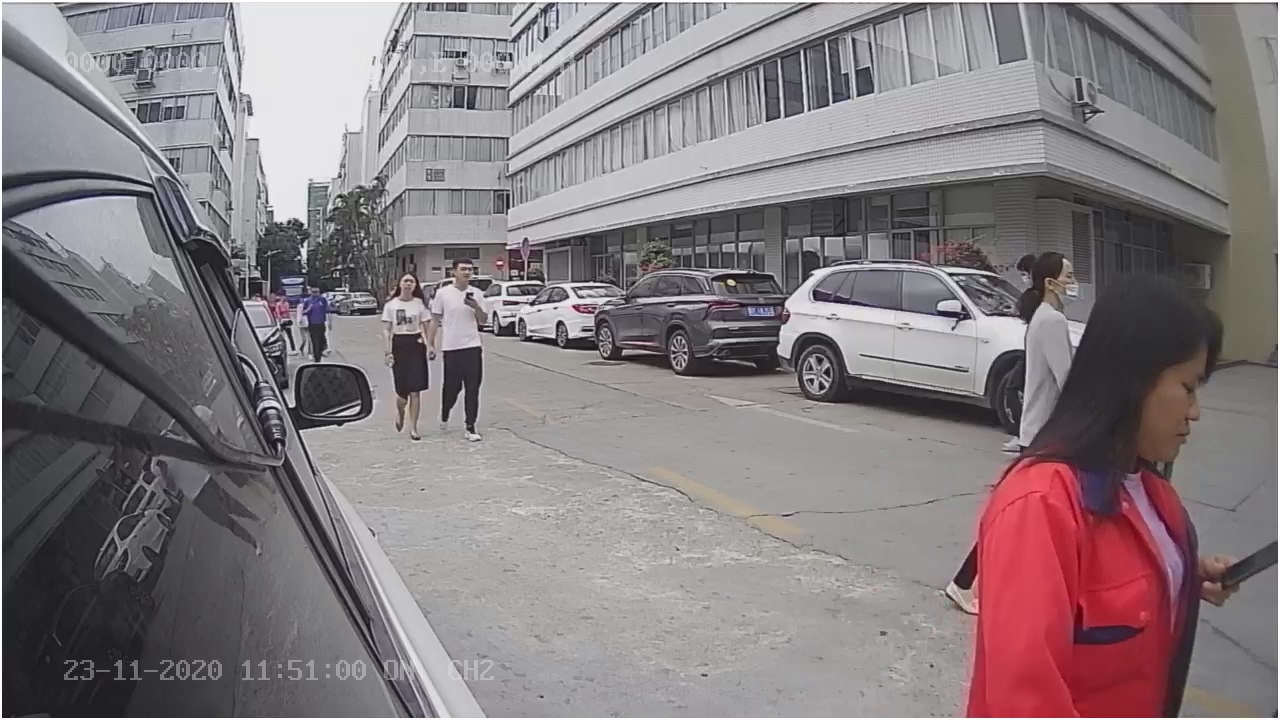person: (373, 268, 430, 441)
